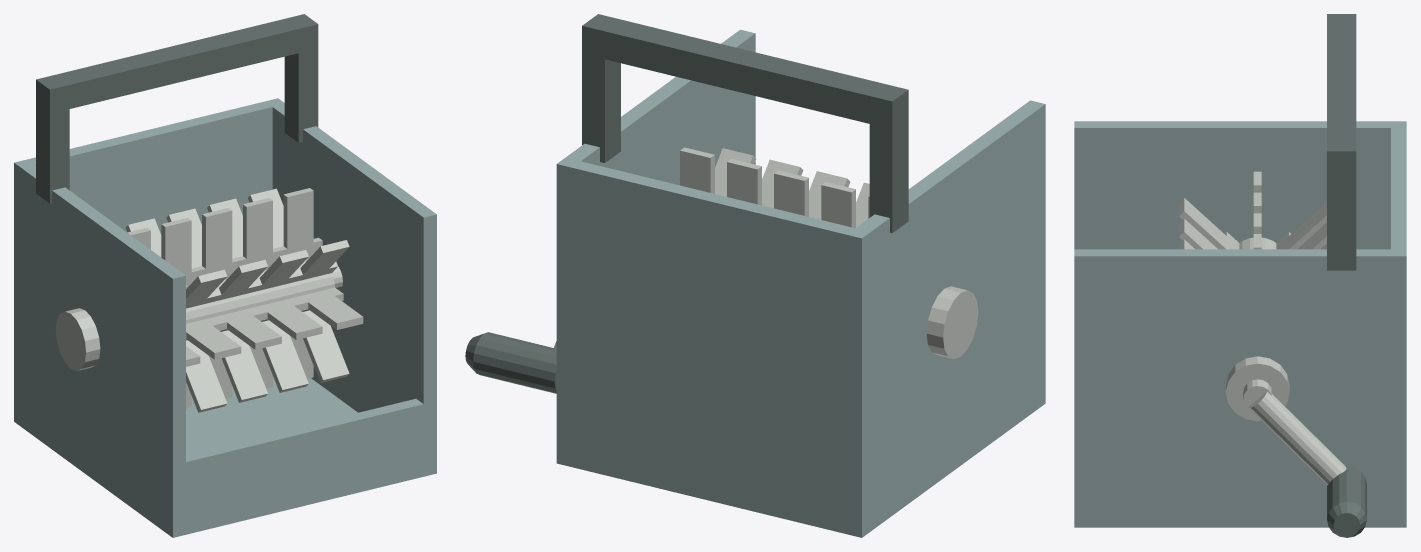
3 renders of one model, left to right at view 1: azimuth 30°, elevation 25°; view 2: azimuth 150°, elevation 25°; view 3: azimuth 270°, elevation 25°, orthographic. The views are drawn at different scales.
Parts seen in each view (by area): view 1: WholeOpenFloorSideBackAndLowFrontShell, WholeCrossCarryHandle, WholeBluntRootedCombPlate2, WholeBluntRootedCombPlate5, WholeBluntRootedCombPlate4, WholeBluntRootedCombPlate3, WholeBluntRootedCombPlate1, WholeInternalCombHub, WholeExteriorShaftSeat-1, WholeBluntRootedCombPlate6; view 2: WholeOpenFloorSideBackAndLowFrontShell, WholeCrossCarryHandle, WholeBluntRootedCombPlate2, WholeProjectingCrankHandGrip, WholeExteriorShaftSeat-1, WholeBluntRootedCombPlate3; view 3: WholeOpenFloorSideBackAndLowFrontShell, WholeCrossCarryHandle, WholeOffsetCrankArm, WholeProjectingCrankHandGrip, WholeExteriorShaftSeat1, WholeBluntRootedCombPlate3, WholeBluntRootedCombPlate1, WholeBluntRootedCombPlate2, WholeTransverseShaft.
Part boxes in pixels (box(x1,y1,x2,y2)): WholeOpenFloorSideBackAndLowFrontShell: box(14, 98, 436, 537); WholeCrossCarryHandle: box(36, 14, 318, 203); WholeBluntRootedCombPlate2: box(127, 188, 322, 288); WholeBluntRootedCombPlate5: box(186, 310, 349, 413); WholeBluntRootedCombPlate4: box(186, 287, 363, 366); WholeBluntRootedCombPlate3: box(186, 240, 349, 308); WholeBluntRootedCombPlate1: box(125, 188, 283, 268); WholeInternalCombHub: box(186, 259, 334, 340); WholeExteriorShaftSeat-1: box(55, 308, 100, 370); WholeBluntRootedCombPlate6: box(186, 336, 313, 408); WholeOpenFloorSideBackAndLowFrontShell: box(556, 29, 1045, 537); WholeCrossCarryHandle: box(582, 14, 908, 233); WholeBluntRootedCombPlate2: box(680, 147, 869, 228); WholeProjectingCrankHandGrip: box(465, 332, 556, 393); WholeExteriorShaftSeat-1: box(926, 286, 978, 358); WholeBluntRootedCombPlate3: box(715, 148, 869, 227); WholeOpenFloorSideBackAndLowFrontShell: box(1074, 121, 1406, 527); WholeCrossCarryHandle: box(1327, 14, 1356, 270); WholeOffsetCrankArm: box(1248, 391, 1346, 485); WholeProjectingCrankHandGrip: box(1327, 466, 1366, 537); WholeExteriorShaftSeat1: box(1226, 356, 1289, 421); WholeBluntRootedCombPlate3: box(1178, 198, 1239, 249); WholeBluntRootedCombPlate1: box(1276, 202, 1326, 249); WholeBluntRootedCombPlate2: box(1253, 171, 1261, 249); WholeTransverseShaft: box(1243, 379, 1272, 410).
Size of the model in its own units: 0.345 by 0.313 by 0.25.
